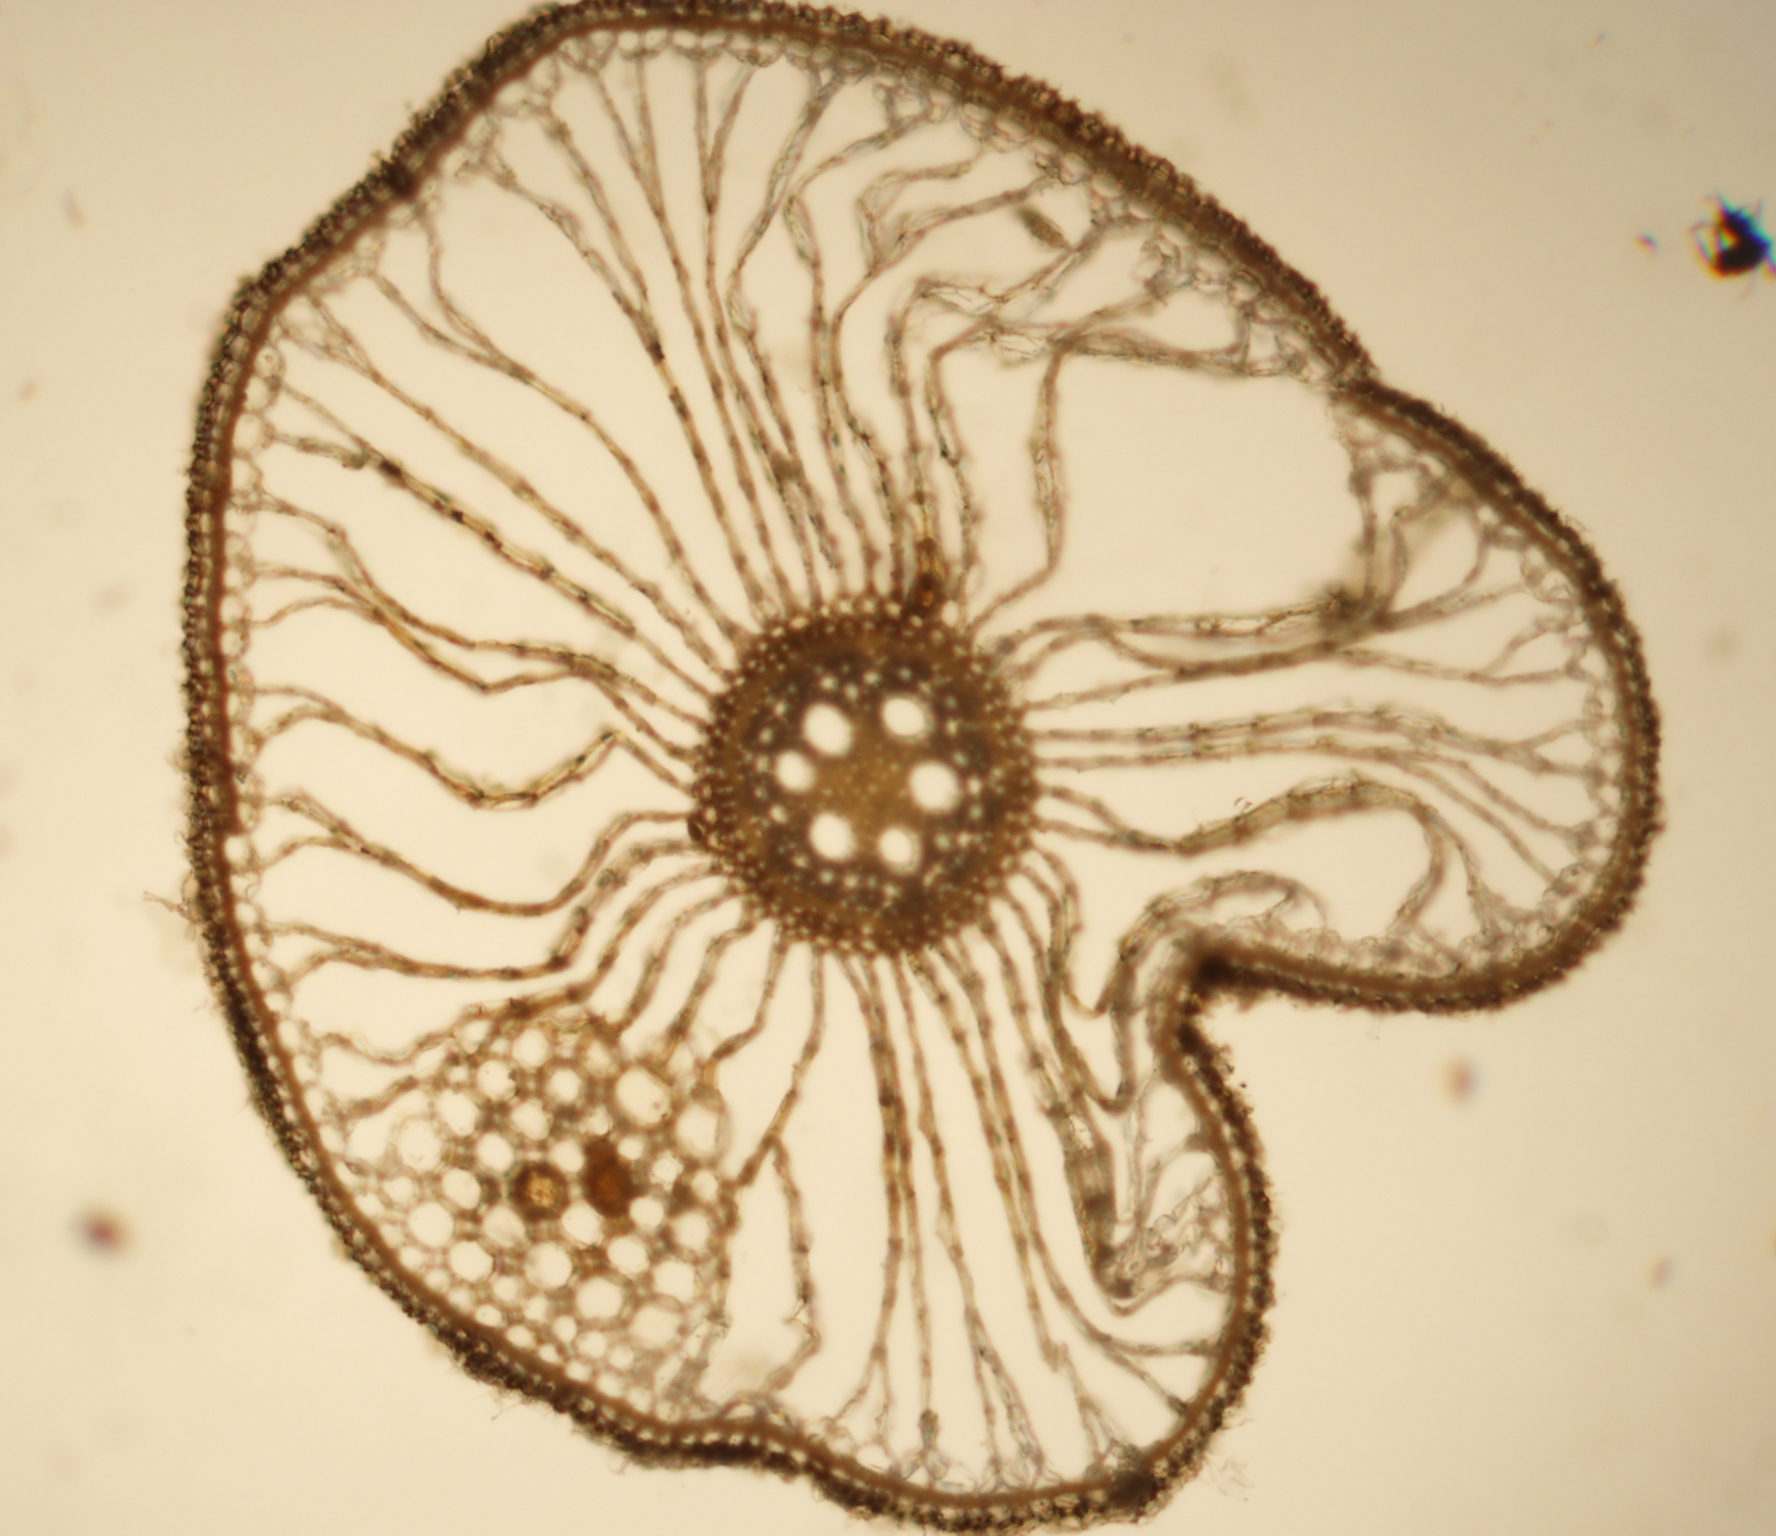lm: (909, 760, 965, 813), (802, 701, 853, 757), (806, 811, 856, 861), (880, 695, 930, 739), (877, 828, 920, 871), (775, 749, 816, 793)
